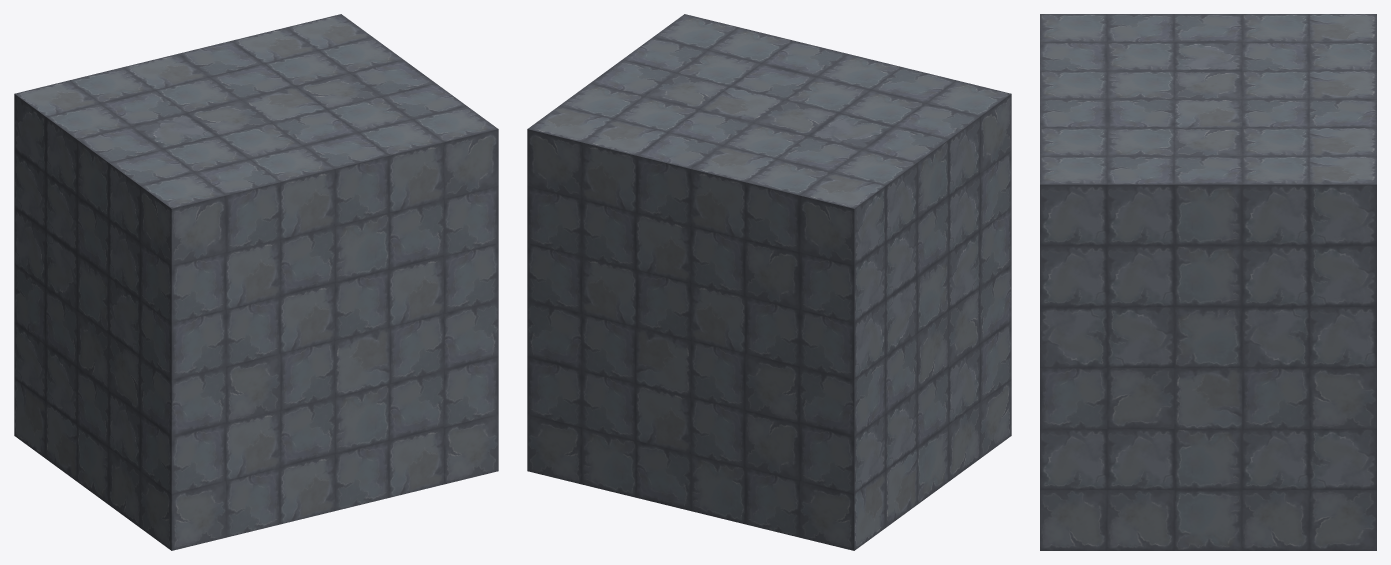
The model's file is Castle Block 6x5x6.fbx.
The picture shows the model from 3 angles, left to right: view 1: azimuth 30°, elevation 25°; view 2: azimuth 150°, elevation 25°; view 3: azimuth 270°, elevation 25°; orthographic projection. The views are drawn at different scales.
Parts seen in each view (by area): view 1: Castle Block 6x5x6; view 2: Castle Block 6x5x6; view 3: Castle Block 6x5x6.
Boxes of the visible parts, left/top/right/bottom form: Castle Block 6x5x6: left=14, top=14, right=498, bottom=550; Castle Block 6x5x6: left=527, top=14, right=1011, bottom=550; Castle Block 6x5x6: left=1040, top=14, right=1376, bottom=550.
Bounding box in the file's own units: 4.5 × 4.5 × 3.75.
